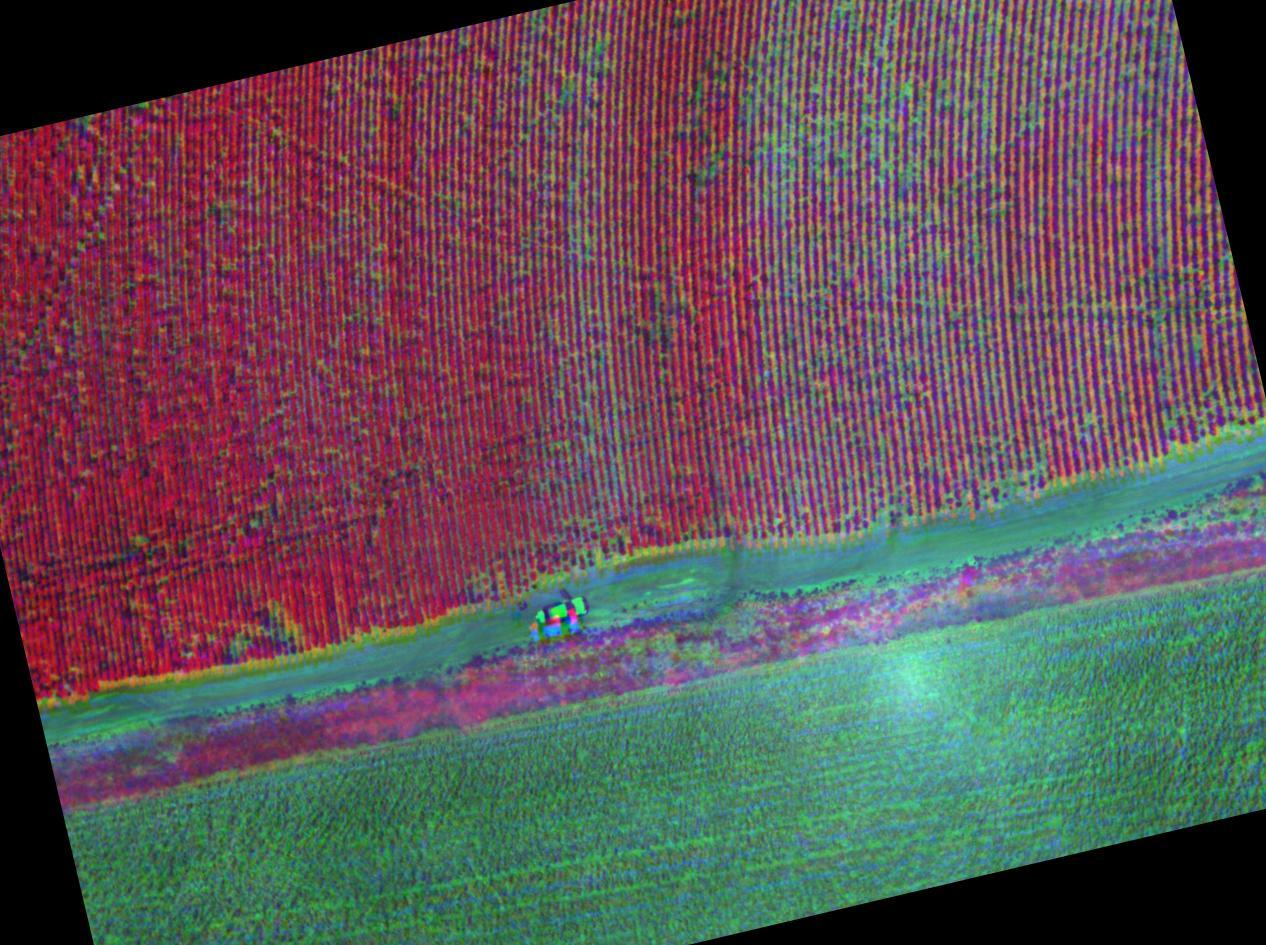dc: (790, 439, 912, 534), (858, 70, 943, 167), (747, 103, 837, 193), (766, 10, 849, 86), (960, 429, 1045, 502)
